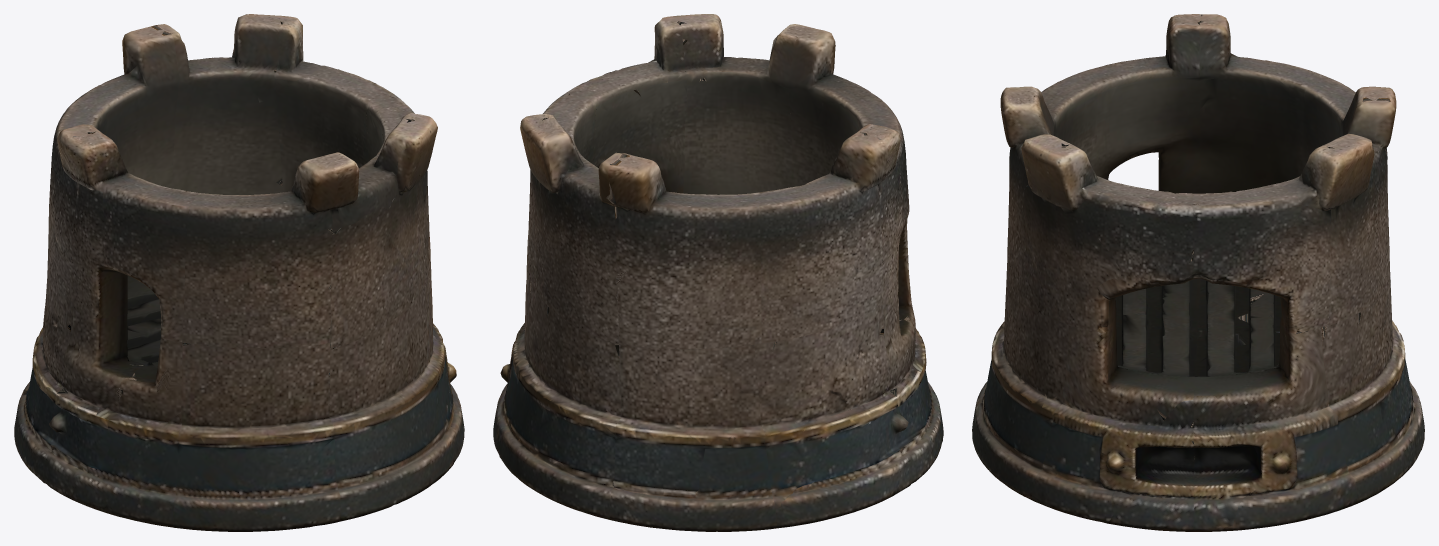
The model's file is stove-desktop.glb.
3 views of the same model, side by side, from view 1: azimuth 30°, elevation 25°; view 2: azimuth 150°, elevation 25°; view 3: azimuth 270°, elevation 25° (orthographic).
Parts seen in each view (by area): view 1: tripo_node_7d442a3f-a41e-40f7-864e-047172ac675c; view 2: tripo_node_7d442a3f-a41e-40f7-864e-047172ac675c; view 3: tripo_node_7d442a3f-a41e-40f7-864e-047172ac675c.
Part boxes in pixels (box(x1,y1,x2,y2)): tripo_node_7d442a3f-a41e-40f7-864e-047172ac675c: box(14, 14, 464, 531); tripo_node_7d442a3f-a41e-40f7-864e-047172ac675c: box(493, 14, 943, 531); tripo_node_7d442a3f-a41e-40f7-864e-047172ac675c: box(972, 14, 1424, 531).
Size of the model in its own units: 1 by 0.8411 by 0.9991.
1 material, 1 textured.
